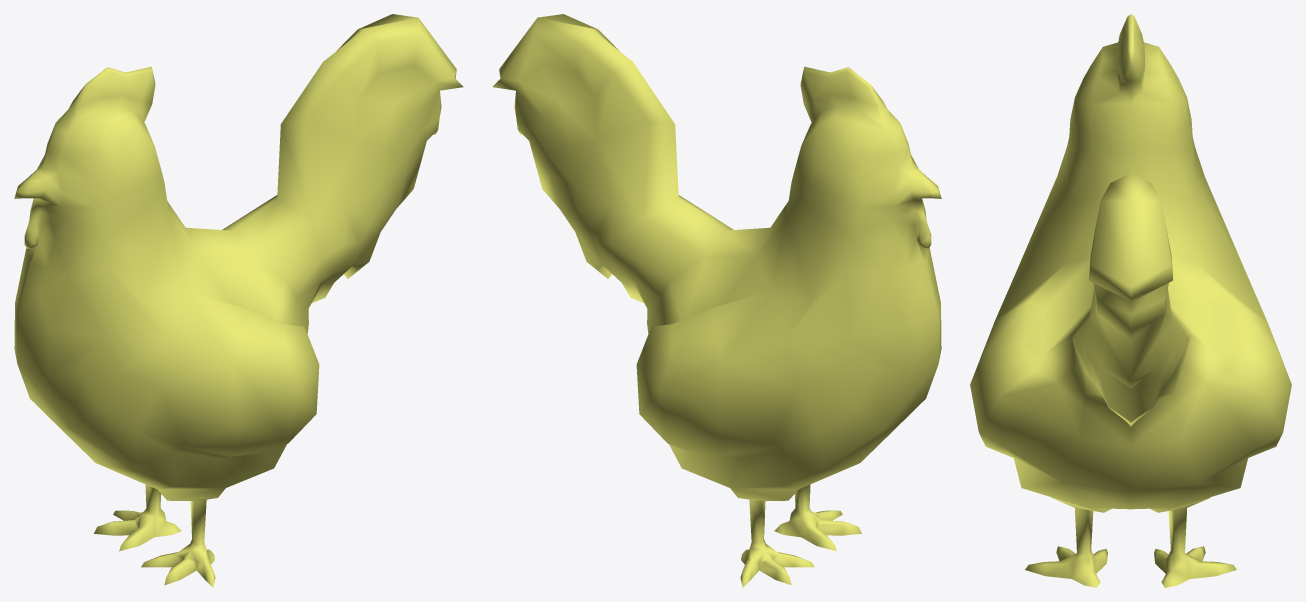
The model's file is chikken.glb.
The picture shows the model from 3 angles, left to right: view 1: azimuth 30°, elevation 25°; view 2: azimuth 150°, elevation 25°; view 3: azimuth 270°, elevation 25°; orthographic projection. The views are drawn at different scales.
Visible parts, largest first — view 1: Line001_Material #26_0; view 2: Line001_Material #26_0; view 3: Line001_Material #26_0.
Boxes of the visible parts, x1,y1,x2,y2 form: Line001_Material #26_0: (14,14,463,587); Line001_Material #26_0: (492,14,941,587); Line001_Material #26_0: (970,14,1291,587).
Size of the model in its own units: 2.66 by 2.86 by 1.58.
